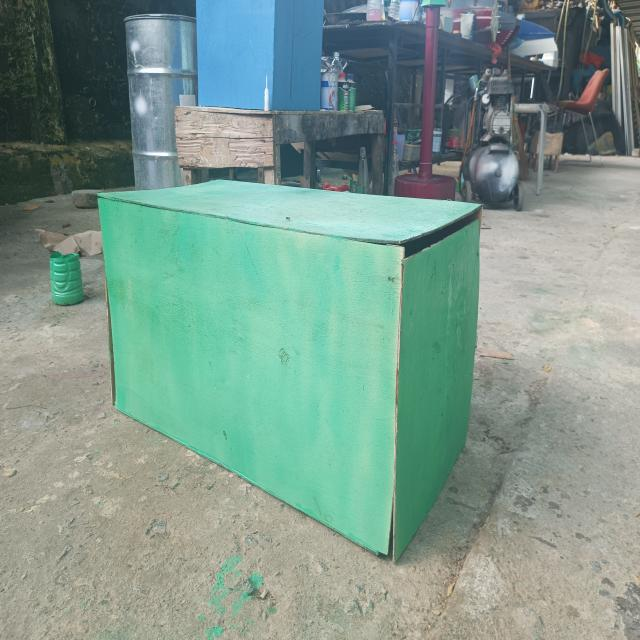green_box: (68, 124, 501, 574)
